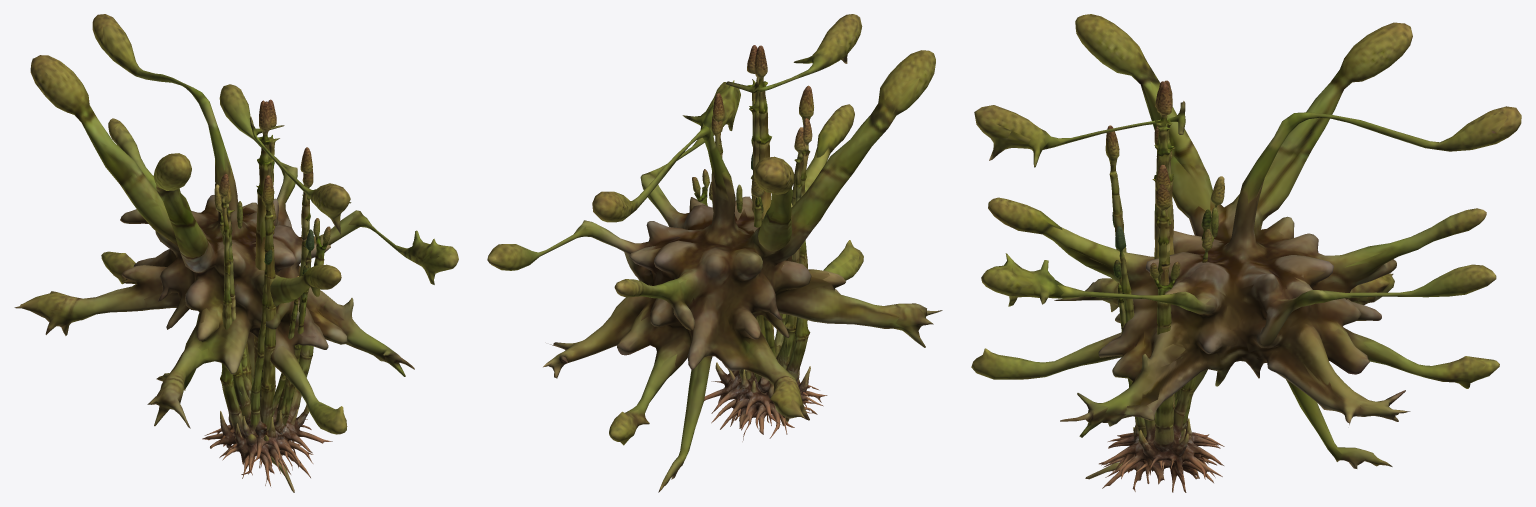
File: grass_lods.glb
3 renders of one model, left to right at view 1: azimuth 30°, elevation 25°; view 2: azimuth 150°, elevation 25°; view 3: azimuth 270°, elevation 25°, orthographic. The views are drawn at different scales.
Visible parts, largest first — view 1: grass_3_lod0, grass_2_lod0, grass_0_lod0, grass_1_lod0; view 2: grass_3_lod0, grass_0_lod0, grass_2_lod0, grass_1_lod0; view 3: grass_3_lod0, grass_0_lod0, grass_1_lod0, grass_2_lod0.
Part boxes in pixels (bbox=[...]): grass_3_lod0: bbox=[14, 14, 458, 492]; grass_2_lod0: bbox=[202, 101, 313, 475]; grass_0_lod0: bbox=[204, 100, 332, 474]; grass_1_lod0: bbox=[214, 99, 310, 486]; grass_3_lod0: bbox=[487, 14, 942, 492]; grass_0_lod0: bbox=[692, 47, 819, 427]; grass_2_lod0: bbox=[711, 45, 827, 441]; grass_1_lod0: bbox=[720, 45, 817, 434]; grass_3_lod0: bbox=[971, 14, 1521, 479]; grass_0_lod0: bbox=[1105, 80, 1223, 484]; grass_1_lod0: bbox=[1101, 84, 1224, 492]; grass_2_lod0: bbox=[1099, 81, 1224, 483].
Size of what is drawn, in the model's own units: 0.8007 by 1 by 1.24.
Materials: 1 (1 with a texture image).
